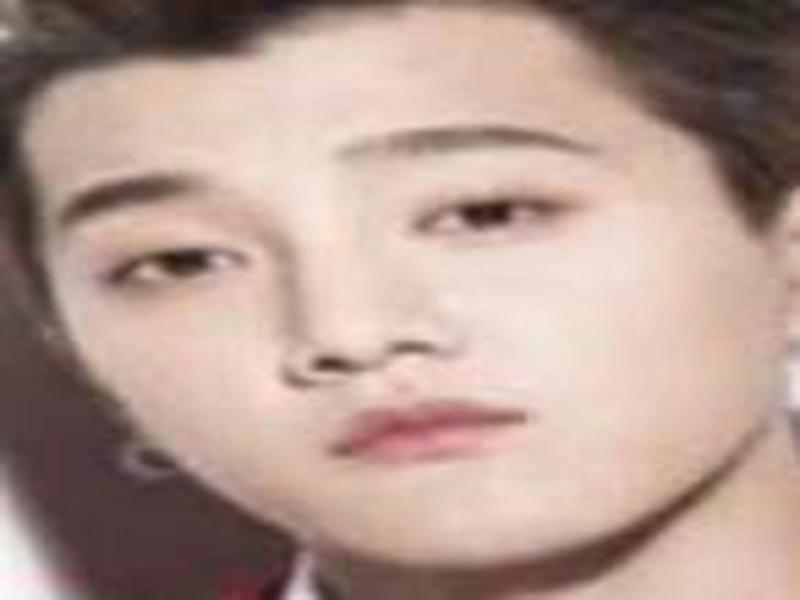without_mask: (27, 57, 772, 570)
